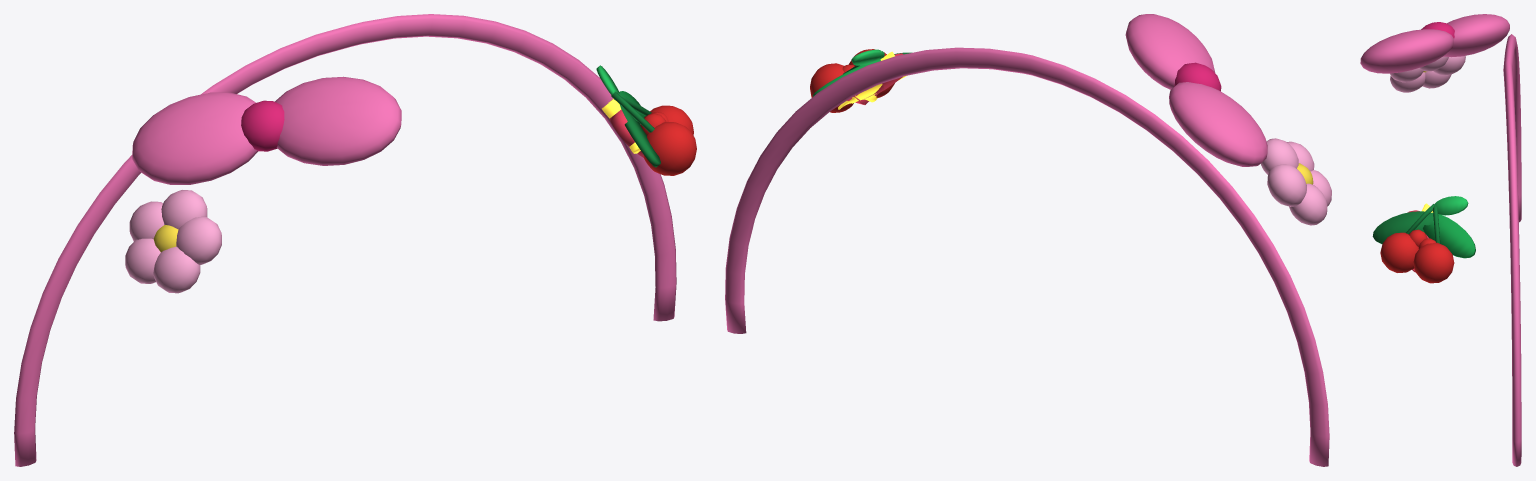
File: props-x.glb
3 renders of one model, left to right at view 1: azimuth 30°, elevation 25°; view 2: azimuth 150°, elevation 25°; view 3: azimuth 270°, elevation 25°, orthographic. The views are drawn at different scales.
Visible parts, largest first — view 1: x-ribbon, x-flower, x-cherry, x-holly; view 2: x-ribbon, x-flower, x-cherry; view 3: x-ribbon, x-cherry, x-holly, x-flower.
Boxes of the visible parts, x1,y1,x2,y2 form: x-ribbon: (14, 14, 676, 466); x-flower: (125, 190, 221, 293); x-cherry: (596, 65, 696, 175); x-holly: (614, 91, 668, 167); x-ribbon: (725, 14, 1329, 466); x-flower: (1261, 138, 1331, 225); x-cherry: (810, 49, 894, 112); x-ribbon: (1360, 14, 1521, 466); x-cherry: (1380, 196, 1468, 283); x-holly: (1372, 211, 1475, 258); x-flower: (1390, 56, 1465, 92).
Bounding box in the file's own units: 0.5022 × 0.2756 × 0.1403.
